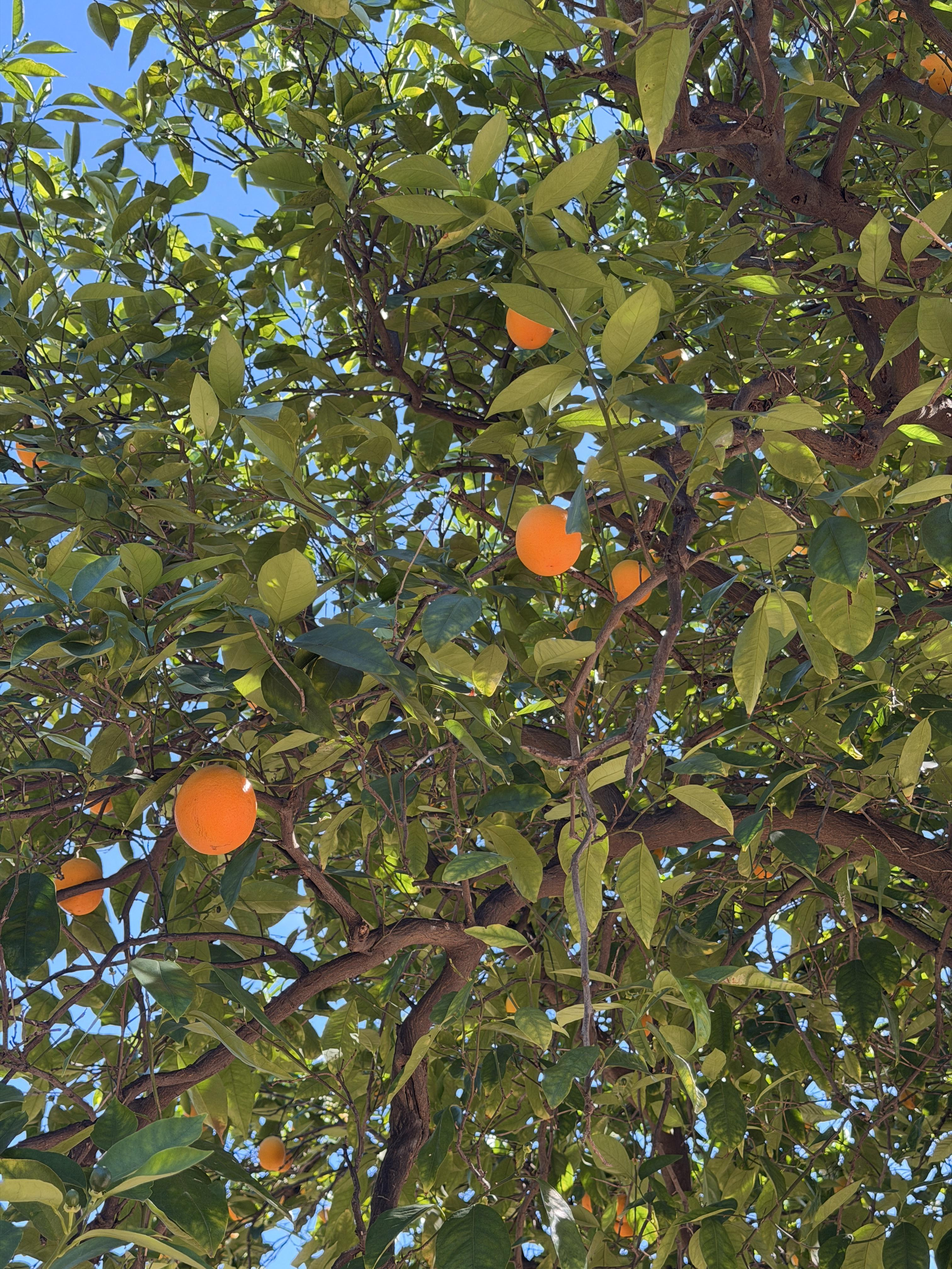orange: (174, 765, 257, 854), (516, 505, 581, 576), (54, 857, 104, 916), (506, 308, 555, 349), (609, 560, 651, 603), (918, 54, 952, 94), (257, 1136, 285, 1171), (85, 797, 114, 815)
